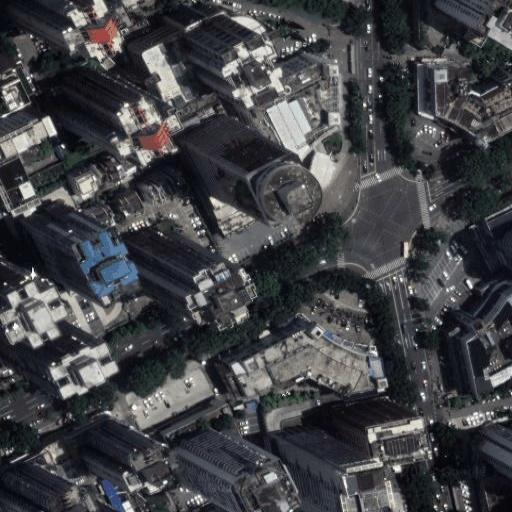building: (229, 319, 370, 395), (228, 41, 321, 140), (446, 273, 512, 385), (432, 63, 512, 148), (122, 17, 196, 107), (180, 113, 258, 190), (22, 201, 93, 283), (270, 424, 332, 510), (120, 224, 194, 295), (170, 2, 238, 79), (206, 157, 287, 221), (173, 426, 244, 499), (56, 67, 124, 143), (327, 398, 398, 452), (24, 429, 90, 487), (221, 188, 295, 236), (0, 308, 59, 365), (77, 415, 139, 468), (165, 403, 233, 450), (213, 3, 267, 59), (4, 0, 70, 36), (416, 0, 462, 45), (475, 462, 512, 512), (4, 198, 44, 242), (146, 169, 190, 207), (483, 209, 512, 266), (300, 151, 333, 199), (91, 158, 135, 193), (0, 99, 39, 138), (215, 359, 246, 402), (417, 64, 434, 113), (115, 196, 143, 224), (72, 177, 97, 207), (88, 209, 114, 235), (498, 231, 512, 279), (455, 20, 482, 43), (200, 495, 226, 512), (365, 349, 384, 372), (74, 501, 111, 512), (374, 369, 387, 387)
